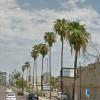Palm tree: (25, 17, 93, 67)
